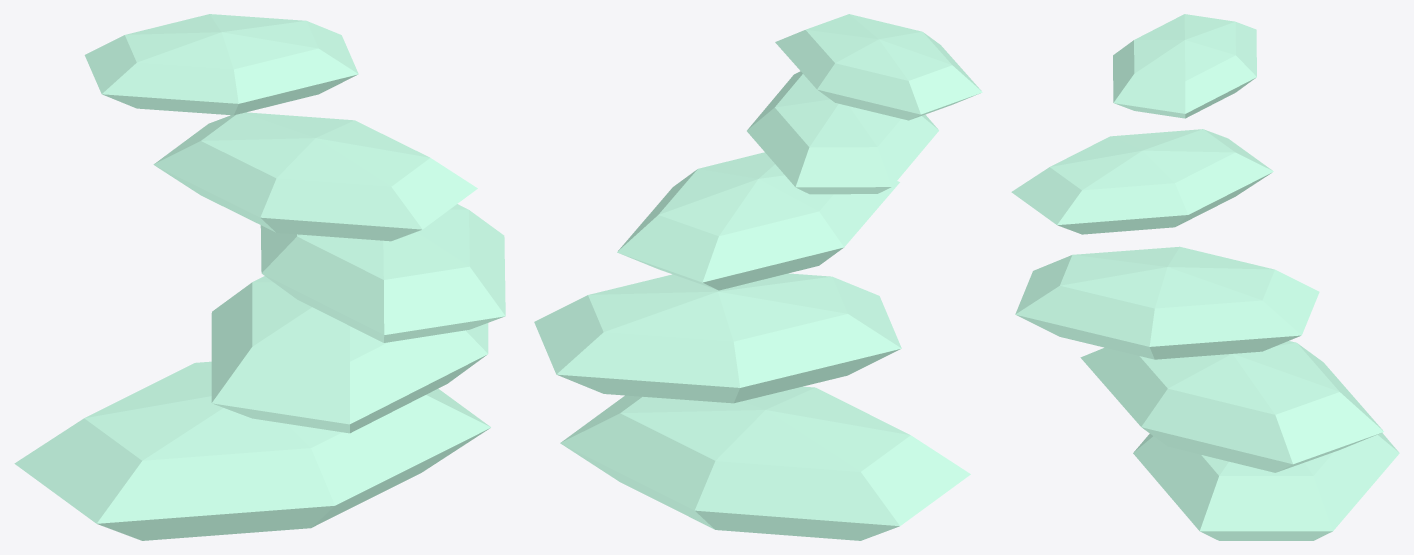
File: prop_mist_pillar.glb
The picture shows the model from 3 angles, left to right: view 1: azimuth 30°, elevation 25°; view 2: azimuth 150°, elevation 25°; view 3: azimuth 270°, elevation 25°; orthographic projection. The views are drawn at different scales.
Visible parts, largest first — view 1: prop_mist_pillar; view 2: prop_mist_pillar; view 3: prop_mist_pillar.
Part boxes in pixels (left/top/right/bottom): prop_mist_pillar: left=14, top=14, right=505, bottom=540; prop_mist_pillar: left=534, top=14, right=982, bottom=540; prop_mist_pillar: left=1011, top=14, right=1399, bottom=540.
Size of the model in its own units: 2.39 by 2.65 by 2.18.
